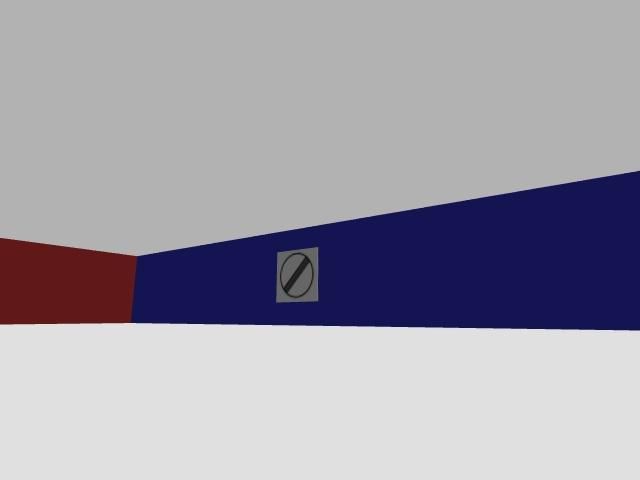fastsign: (276, 247, 317, 302)
